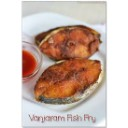seerfish: (26, 57, 103, 102), (38, 24, 101, 61)
